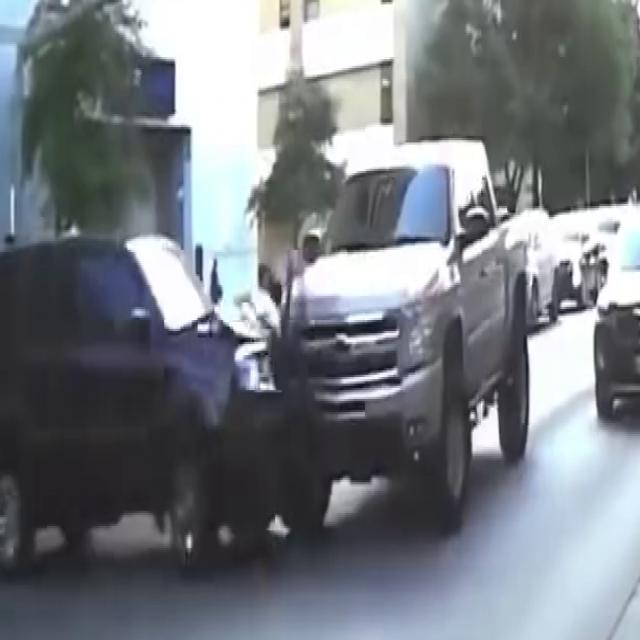accident: (124, 207, 408, 576)
